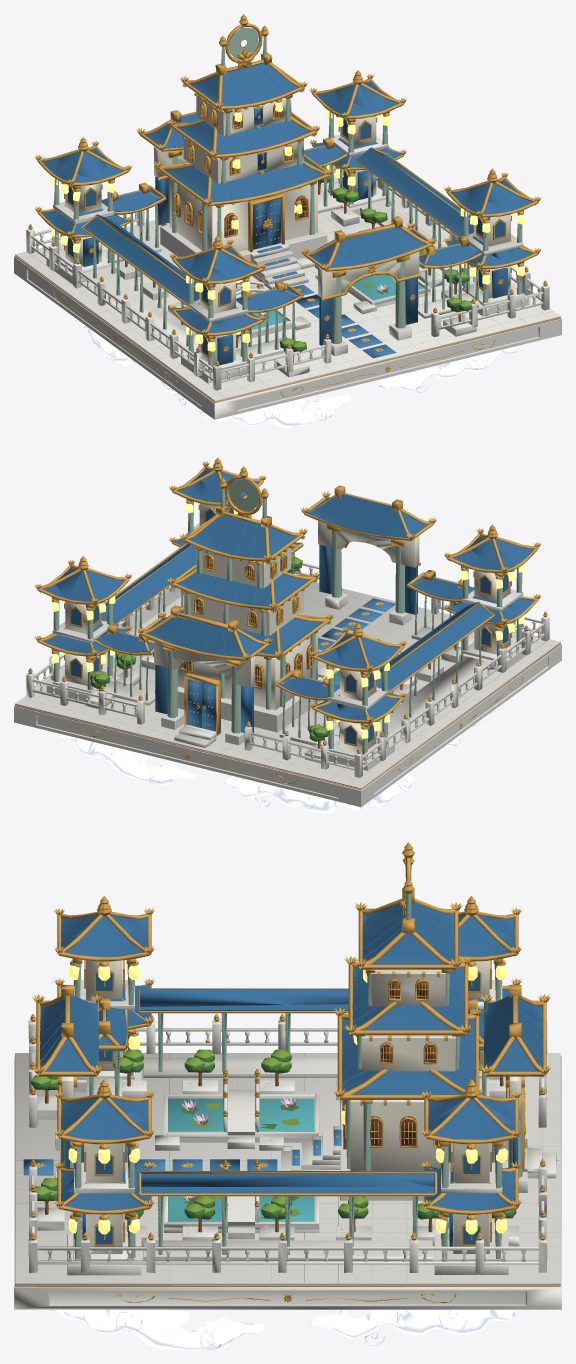
File: city-6-lod1-6e775ed95030.glb
3 renders of one model, top to bottom at view 1: azimuth 30°, elevation 25°; view 2: azimuth 150°, elevation 25°; view 3: azimuth 270°, elevation 25°, orthographic. The views are drawn at different scales.
Visible parts, largest first — view 1: SM_CT6_V4_Batch_0.004, SM_CT6_V4_Batch_34.004, SM_CT6_V4_Batch_152.004, SM_CT6_V4_Batch_31.004, SM_CT6_V4_Batch_29.004, SM_CT6_V4_Batch_171.004, SM_CT6_V4_Batch_32.004, SM_CT6_V4_Batch_146.004, SM_CT6_V4_Batch_1.004, SM_CT6_V4_Batch_128.004, SM_CT6_V4_Batch_141.004, SM_CT6_V4_Batch_142.004 (+2 smaller); view 2: SM_CT6_V4_Batch_0.004, SM_CT6_V4_Batch_34.004, SM_CT6_V4_Batch_152.004, SM_CT6_V4_Batch_31.004, SM_CT6_V4_Batch_29.004, SM_CT6_V4_Batch_171.004, SM_CT6_V4_Batch_32.004, SM_CT6_V4_Batch_146.004, SM_CT6_V4_Batch_1.004, SM_CT6_V4_Batch_6.004, SM_CT6_V4_Batch_3.004, SM_CT6_V4_Batch_141.004 (+1 smaller); view 3: SM_CT6_V4_Batch_0.004, SM_CT6_V4_Batch_34.004, SM_CT6_V4_Batch_152.004, SM_CT6_V4_Batch_31.004, SM_CT6_V4_Batch_171.004, SM_CT6_V4_Batch_29.004, SM_CT6_V4_Batch_128.004, SM_CT6_V4_Batch_146.004, SM_CT6_V4_Batch_141.004, SM_CT6_V4_Batch_32.004, SM_CT6_V4_Batch_142.004, SM_CT6_V4_Batch_6.004 (+2 smaller).
Part boxes in pixels (box(x1,y1,x2,y2)): SM_CT6_V4_Batch_0.004: box(14, 134, 561, 419); SM_CT6_V4_Batch_34.004: box(41, 63, 532, 365); SM_CT6_V4_Batch_152.004: box(28, 14, 547, 396); SM_CT6_V4_Batch_31.004: box(65, 95, 510, 365); SM_CT6_V4_Batch_29.004: box(54, 27, 522, 370); SM_CT6_V4_Batch_171.004: box(71, 315, 516, 428); SM_CT6_V4_Batch_32.004: box(51, 102, 524, 351); SM_CT6_V4_Batch_146.004: box(183, 64, 409, 358); SM_CT6_V4_Batch_1.004: box(15, 256, 560, 402); SM_CT6_V4_Batch_128.004: box(236, 274, 423, 329); SM_CT6_V4_Batch_141.004: box(237, 177, 471, 352); SM_CT6_V4_Batch_142.004: box(265, 188, 471, 347); SM_CT6_V4_Batch_0.004: box(14, 523, 561, 807); SM_CT6_V4_Batch_34.004: box(43, 468, 534, 744); SM_CT6_V4_Batch_152.004: box(28, 457, 547, 784); SM_CT6_V4_Batch_31.004: box(65, 503, 510, 752); SM_CT6_V4_Batch_29.004: box(53, 479, 522, 757); SM_CT6_V4_Batch_171.004: box(58, 702, 505, 813); SM_CT6_V4_Batch_32.004: box(51, 502, 524, 739); SM_CT6_V4_Batch_146.004: box(163, 516, 395, 660); SM_CT6_V4_Batch_1.004: box(15, 643, 560, 790); SM_CT6_V4_Batch_6.004: box(182, 554, 311, 687); SM_CT6_V4_Batch_3.004: box(25, 586, 550, 783); SM_CT6_V4_Batch_141.004: box(90, 561, 455, 741); SM_CT6_V4_Batch_0.004: box(14, 980, 561, 1309); SM_CT6_V4_Batch_34.004: box(39, 902, 543, 1250); SM_CT6_V4_Batch_152.004: box(30, 842, 550, 1302); SM_CT6_V4_Batch_31.004: box(61, 960, 521, 1253); SM_CT6_V4_Batch_171.004: box(46, 1309, 522, 1349); SM_CT6_V4_Batch_29.004: box(60, 865, 522, 1258); SM_CT6_V4_Batch_128.004: box(168, 1099, 314, 1221); SM_CT6_V4_Batch_146.004: box(23, 905, 543, 1175); SM_CT6_V4_Batch_141.004: box(31, 1055, 516, 1219); SM_CT6_V4_Batch_32.004: box(68, 965, 507, 1234); SM_CT6_V4_Batch_142.004: box(31, 1049, 515, 1216); SM_CT6_V4_Batch_6.004: box(371, 978, 439, 1146).
Bounding box in the file's own units: 10 × 8.35 × 10.
19 materials, 4 textured.
